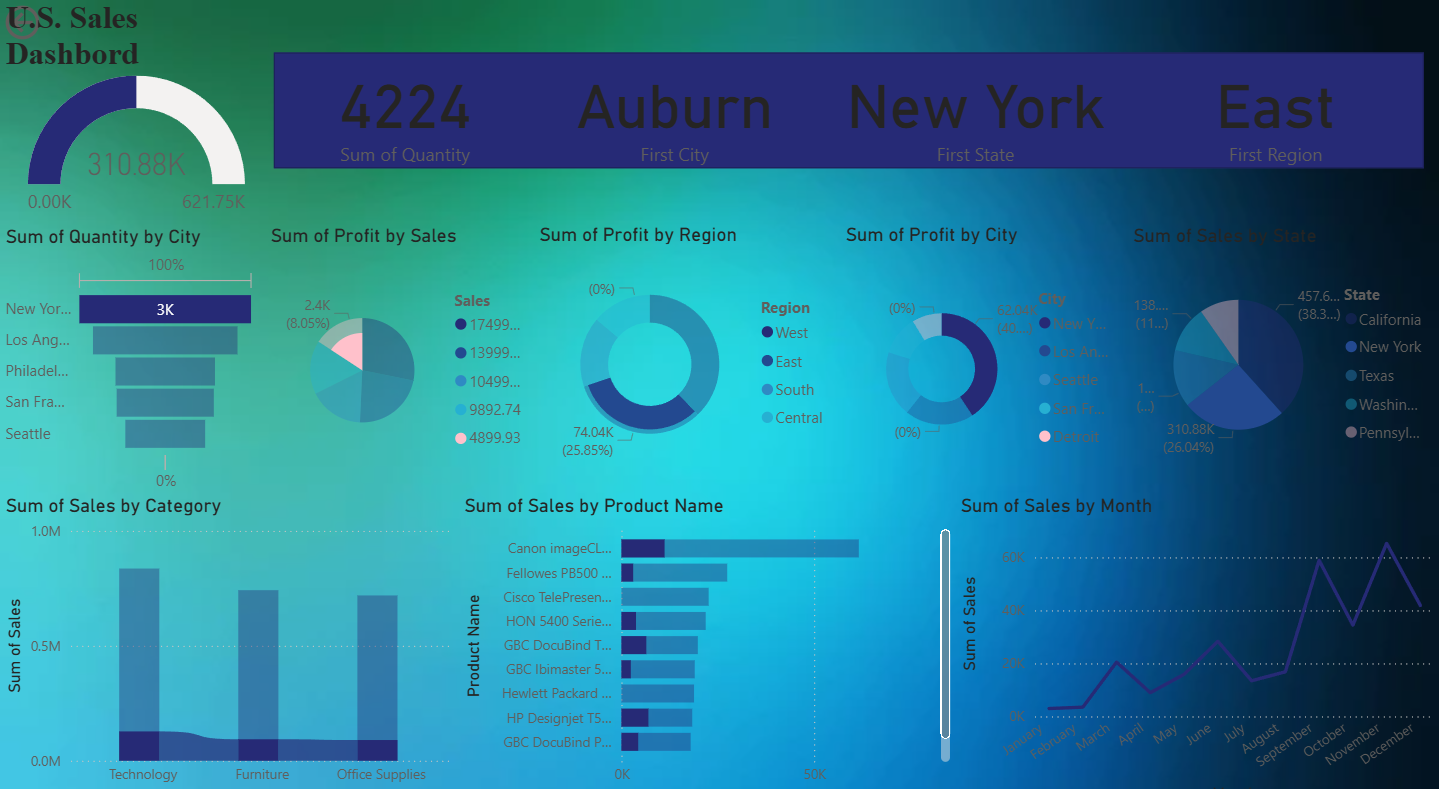

The dashboard page shown, as its layout file describes it:
{"tool":"powerbi","page":{"name":"Page 5","canvas":[1280,720],"ordinal":0},"visuals":[{"type":"shape","box":[242.9,46.7,1022.3,102.9],"z":0},{"type":"actionButton","box":[0,0,100,40],"z":2000},{"type":"card","fields":{"Values":["Min(Orders.State)"]},"box":[732.8,0,270.3,197.6],"z":3000},{"type":"card","fields":{"Values":["Min(Orders.City)"]},"box":[477.5,0,244.3,197.6],"z":4000},{"type":"card","fields":{"Values":["Min(Orders.Region)"]},"box":[1014,0,239.5,197.7],"z":5000},{"type":"ribbonChart","fields":{"Category":["Orders.Category"],"Y":["Sum(Orders.Sales)"]},"box":[0,439.1,407.5,281.3],"z":6000},{"type":"barChart","fields":{"Category":["Orders.Product Name"],"Y":["Sum(Orders.Sales)"]},"box":[407.5,439.1,441.9,281.3],"z":7000},{"type":"lineChart","fields":{"Category":["Orders.Order Date.Variation.Date Hierarchy.Month"],"Y":["Sum(Orders.Sales)"]},"box":[849.4,439.1,430.9,279.9],"z":8000},{"type":"donutChart","fields":{"Category":["Orders.Region"],"Y":["Sum(Orders.Profit)"]},"box":[474.8,197.6,271.7,233.3],"z":9000},{"type":"pieChart","fields":{"Y":["Sum(Orders.Sales)"],"Category":["Orders.State"]},"box":[1001.7,199,278.6,231.9],"z":10000},{"type":"card","fields":{"Values":["Sum(Orders.Quantity)"]},"box":[253.9,0,214.1,197.6],"z":11000},{"type":"gauge","title":" U.S. Sales Dashbord","fields":{"Y":["Sum(Orders.Sales)"]},"box":[0,0,242.9,200.5],"z":12000},{"type":"donutChart","fields":{"Category":["Orders.City"],"Y":["Sum(Orders.Profit)"]},"box":[746.5,197.6,255.2,241.5],"z":13000},{"type":"funnel","fields":{"Category":["Orders.City"],"Y":["Sum(Orders.Quantity)"]},"box":[0,200,233.3,241.7],"z":14000},{"type":"pieChart","fields":{"Category":["Orders.Sales"],"Y":["Sum(Orders.Profit)"]},"box":[235,198.3,243.3,241.7],"z":15000}]}

Visuals, with their boxes in screenshot pixels (x1, y1, x2, y2), scaled from the page's 1280x720 canvas onto the 1439x789 screenshot:
shape: (left=273, top=51, right=1422, bottom=164)
actionButton: (left=0, top=0, right=112, bottom=44)
card - Min(Orders.State): (left=824, top=0, right=1128, bottom=217)
card - Min(Orders.City): (left=537, top=0, right=811, bottom=217)
card - Min(Orders.Region): (left=1140, top=0, right=1409, bottom=217)
ribbonChart - Orders.Category x Sum(Orders.Sales): (left=0, top=481, right=458, bottom=788)
barChart - Orders.Product Name x Sum(Orders.Sales): (left=458, top=481, right=955, bottom=788)
lineChart - Orders.Order Date.Variation.Date Hierarchy.Month x Sum(Orders.Sales): (left=955, top=481, right=1438, bottom=788)
donutChart - Orders.Region x Sum(Orders.Profit): (left=534, top=217, right=839, bottom=472)
pieChart - Sum(Orders.Sales) x Orders.State: (left=1126, top=218, right=1438, bottom=472)
card - Sum(Orders.Quantity): (left=285, top=0, right=526, bottom=217)
" U.S. Sales Dashbord" gauge: (left=0, top=0, right=273, bottom=220)
donutChart - Orders.City x Sum(Orders.Profit): (left=839, top=217, right=1126, bottom=481)
funnel - Orders.City x Sum(Orders.Quantity): (left=0, top=219, right=262, bottom=484)
pieChart - Orders.Sales x Sum(Orders.Profit): (left=264, top=217, right=538, bottom=482)
